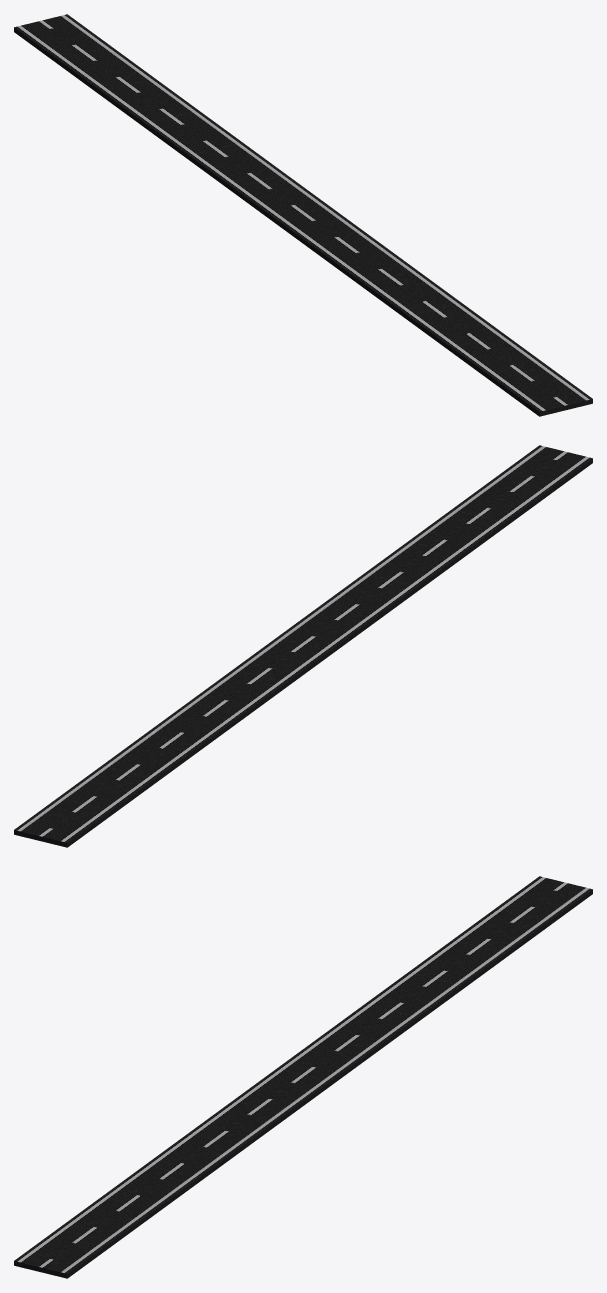
Rendered from road_rong.FBX.
3 views of the same model, one above another, from view 1: azimuth 30°, elevation 25°; view 2: azimuth 150°, elevation 25°; view 3: azimuth 330°, elevation 25° (orthographic).
Parts seen in each view (by area): view 1: road; view 2: road; view 3: road.
Boxes of the visible parts, box(x1,y1,x2,y2) form: road: box(14, 14, 592, 416); road: box(14, 445, 592, 847); road: box(14, 876, 592, 1278).
Bounding box in the file's own units: 173 × 2939 × 27.02.
Materials: 2 (2 with a texture image).
